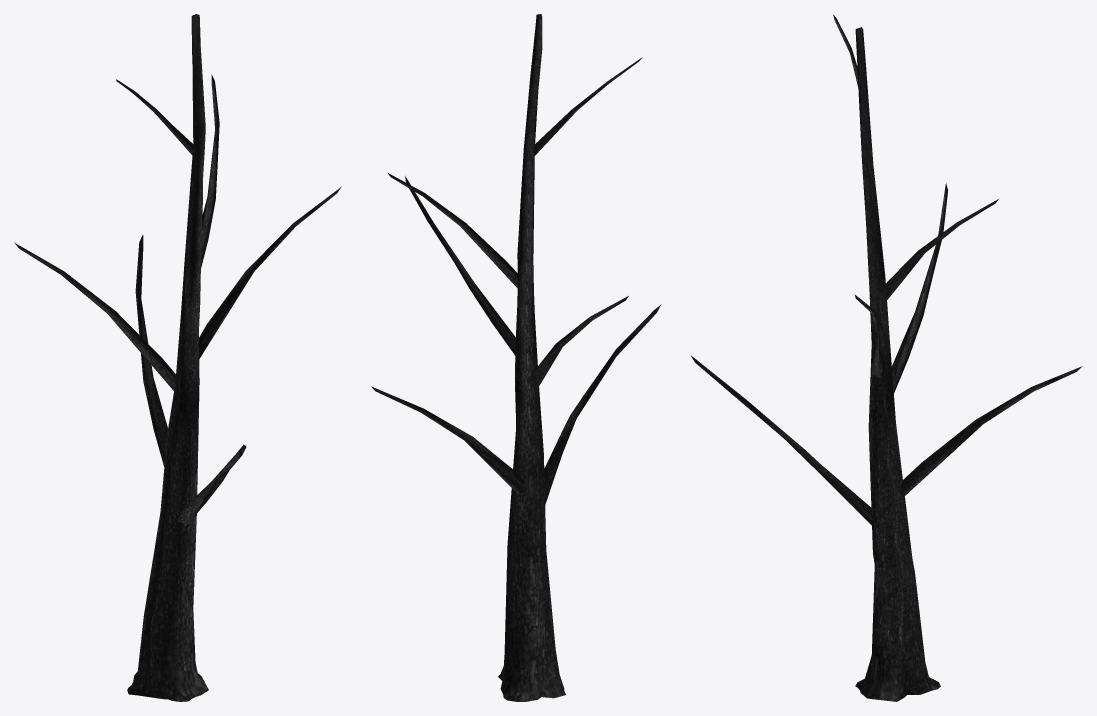
Rendered from tree_8.obj.
3 renders of one model, left to right at view 1: azimuth 30°, elevation 25°; view 2: azimuth 150°, elevation 25°; view 3: azimuth 270°, elevation 25°, orthographic. The views are drawn at different scales.
Visible parts, largest first — view 1: tree_8; view 2: tree_8; view 3: tree_8.
Part boxes in pixels (bbox=[...]): tree_8: bbox=[14, 14, 341, 701]; tree_8: bbox=[371, 14, 661, 701]; tree_8: bbox=[691, 14, 1082, 701].
Bounding box in the file's own units: 3.41 × 7.91 × 4.25.
